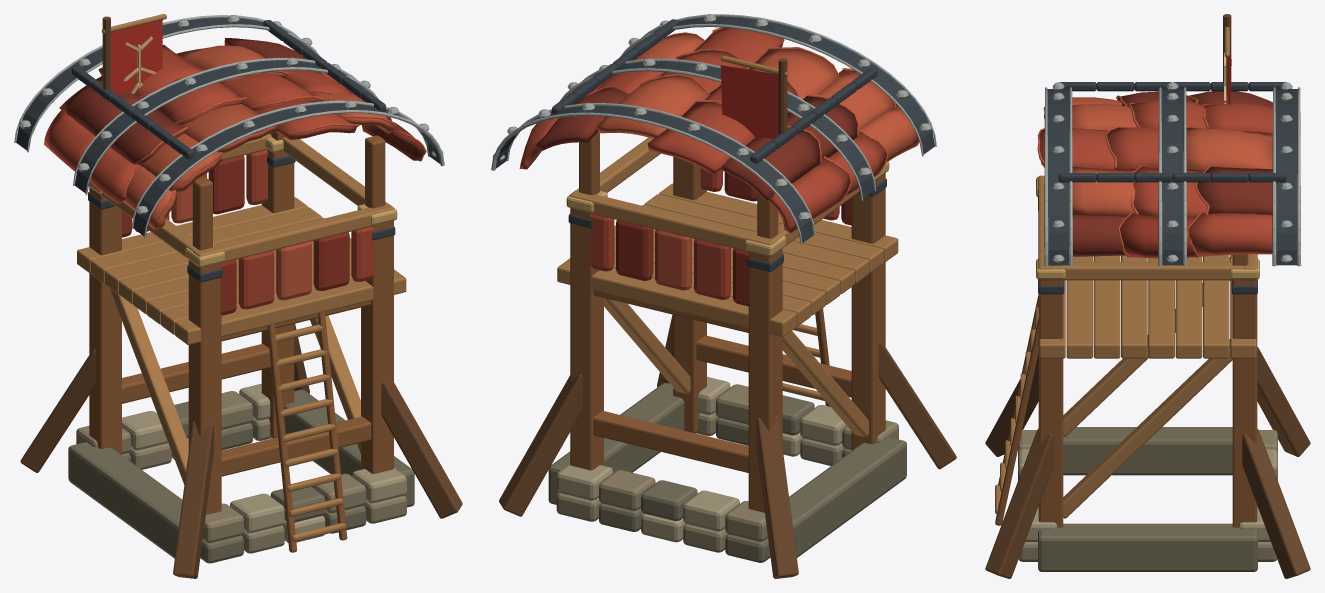
The model's file is tower.glb.
3 renders of one model, left to right at view 1: azimuth 30°, elevation 25°; view 2: azimuth 150°, elevation 25°; view 3: azimuth 270°, elevation 25°, orthographic. The views are drawn at different scales.
Parts seen in each view (by area): view 1: tower; view 2: tower; view 3: tower.
Part boxes in pixels (x1,y1,x2,y2): tower: (14,14,462,578); tower: (491,14,956,578); tower: (985,14,1310,578).
Size of the model in its own units: 3.91 by 5.72 by 3.69.
